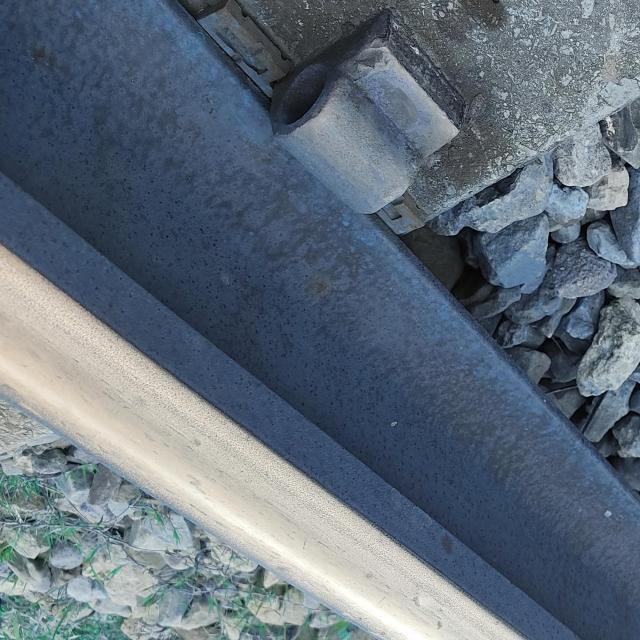Missing Fastener: (230, 4, 500, 233)
